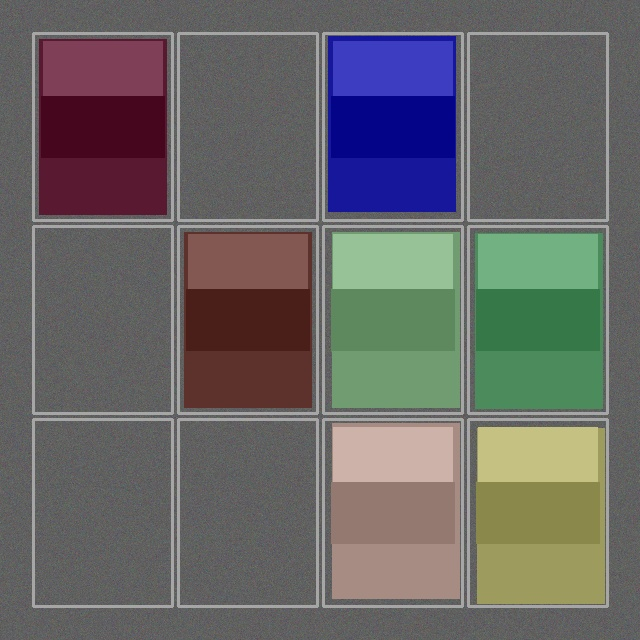space-empty: (180, 35, 315, 218), (470, 35, 605, 218), (35, 228, 170, 411), (35, 421, 170, 604), (180, 421, 315, 604)
space-occupied: (35, 35, 170, 218), (325, 35, 460, 218), (180, 228, 315, 411), (325, 228, 460, 411), (470, 228, 605, 411), (325, 421, 460, 604), (470, 421, 605, 604)
